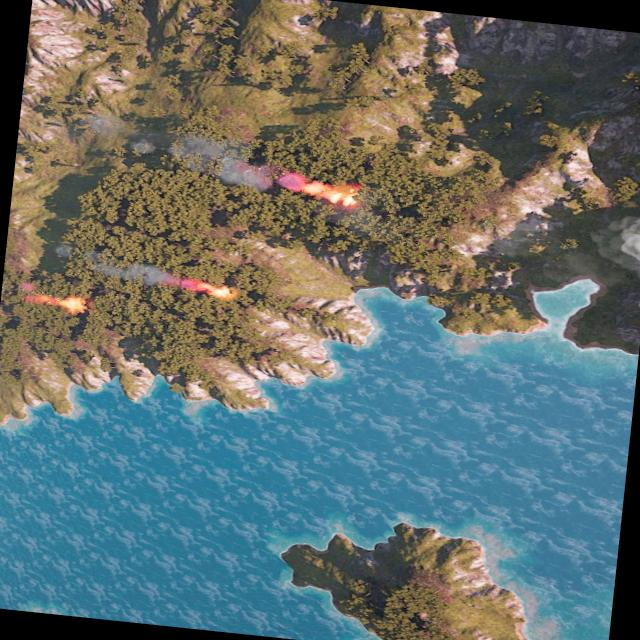fire: (298, 171, 368, 209), (23, 288, 85, 312), (180, 274, 233, 298)
smoke: (64, 110, 295, 196), (66, 246, 190, 288)
